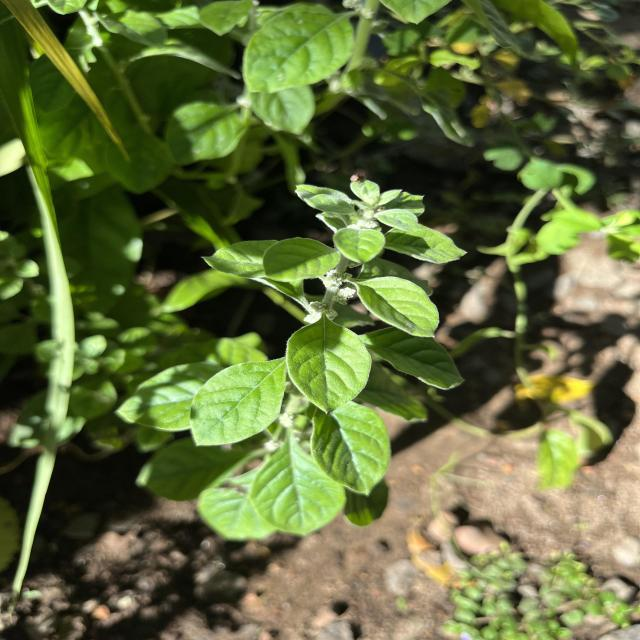Aerva lanata: (189, 357, 289, 447), (284, 318, 374, 416), (308, 400, 394, 499), (350, 274, 442, 339), (260, 234, 342, 284)
